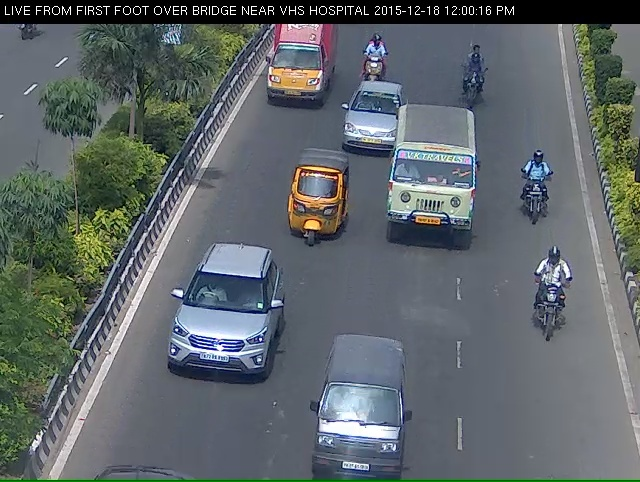Auto: (259, 26, 328, 102), (293, 163, 342, 253)
Bus: (387, 118, 476, 252)
Car: (175, 251, 268, 399), (314, 346, 409, 477), (341, 90, 399, 154)
Person: (506, 149, 556, 234), (538, 254, 578, 353), (450, 50, 495, 116), (358, 47, 384, 89)
